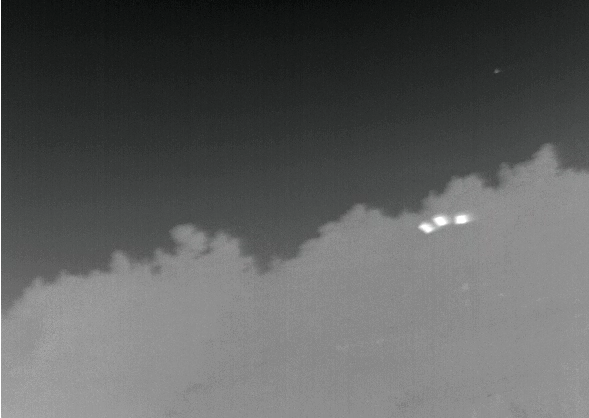dim target: (492, 68, 500, 74)
